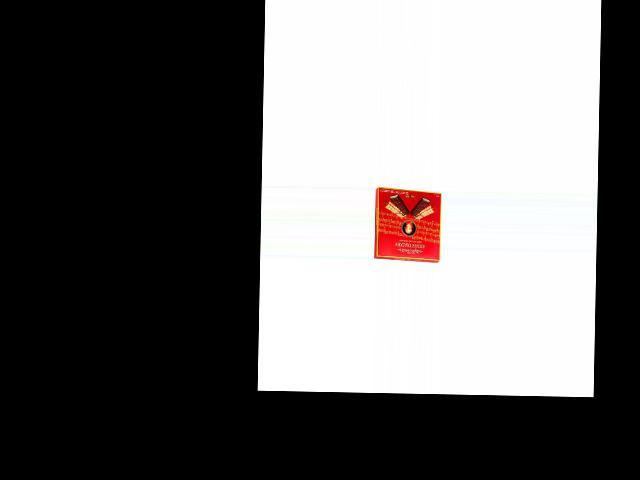chocolate: (373, 185, 443, 261)
